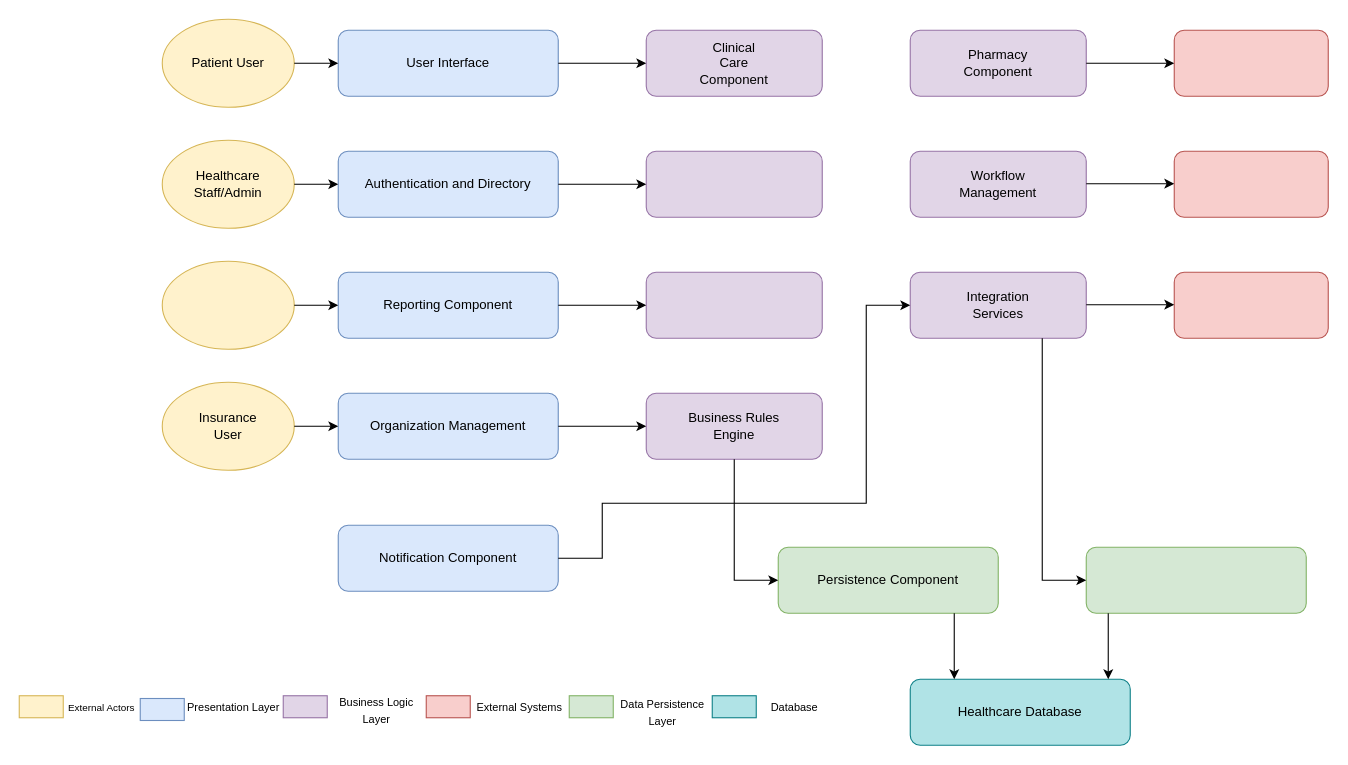
This 1348x765 diagram has some shape labels left out. Here are the shapes that lost their labels. From the top down, the box of each, then its label:
(1173, 29, 1328, 96): External APIs
(645, 150, 822, 217): Insurance and Claims Component
(1173, 150, 1328, 217): Payment Gateway
(161, 260, 294, 349): Pharmacist User
(645, 271, 822, 338): User Management Service
(1173, 271, 1328, 338): Emails/SMS Service
(1085, 546, 1306, 613): Data Access Objects
